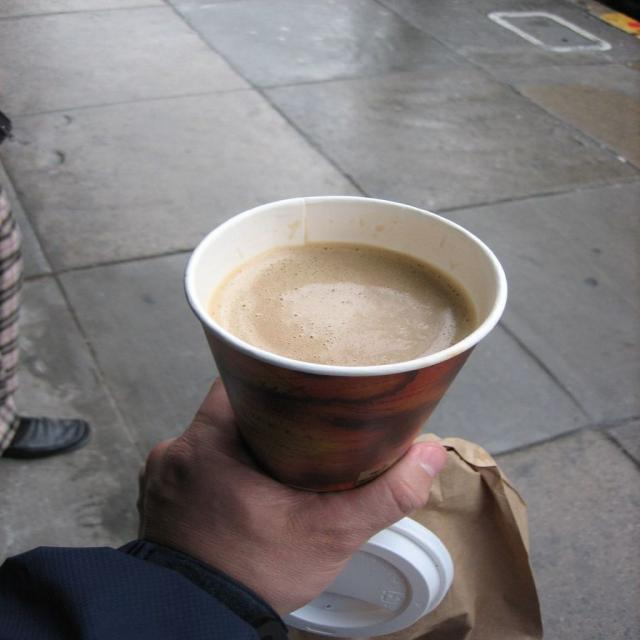Coffee: (204, 240, 473, 366)
